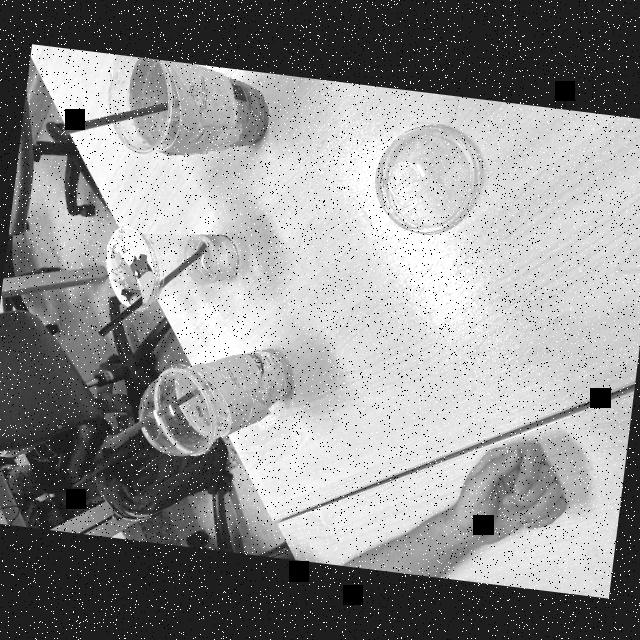plastic_cup: (143, 330, 316, 470), (97, 52, 276, 168), (98, 213, 243, 320)
plastic_cup_lid: (362, 106, 488, 250), (125, 361, 228, 465)
straw: (95, 240, 207, 338), (103, 379, 212, 450), (60, 96, 178, 135)
